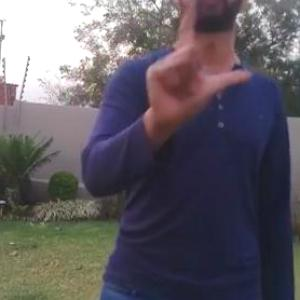land_hand: (144, 0, 254, 136)
